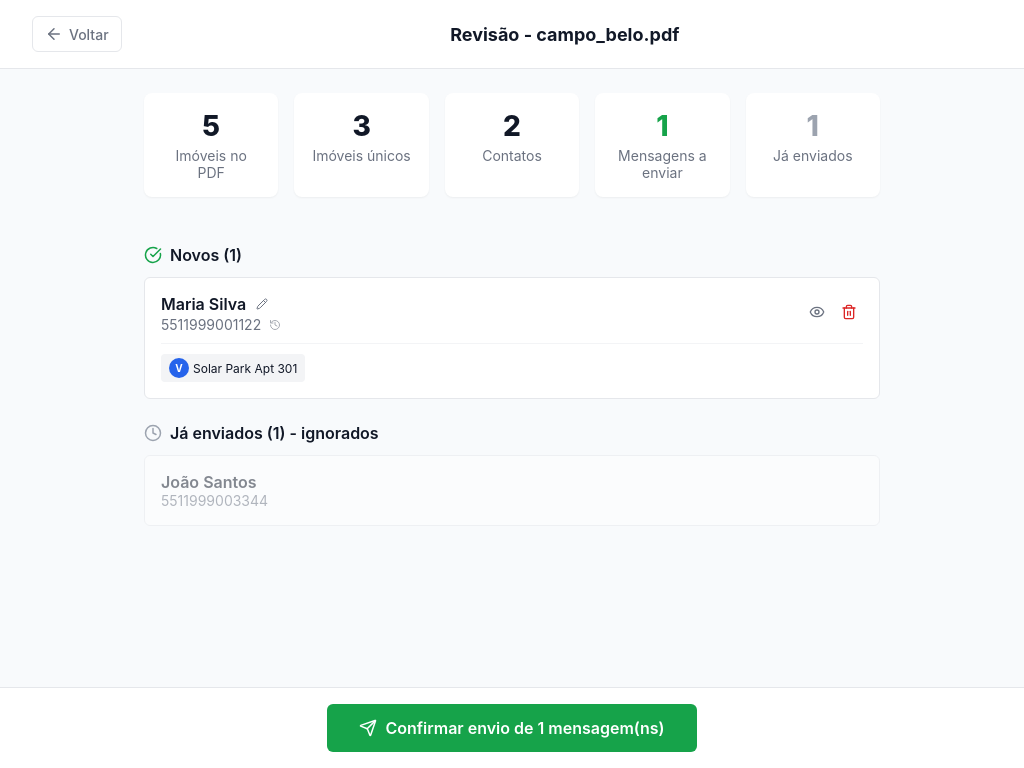
it: Revisao › deve abrir preview da mensagem ao clicar no icone de olho
Click the button titled "Ver mensagem" at [817, 314], box [803, 298, 831, 329]
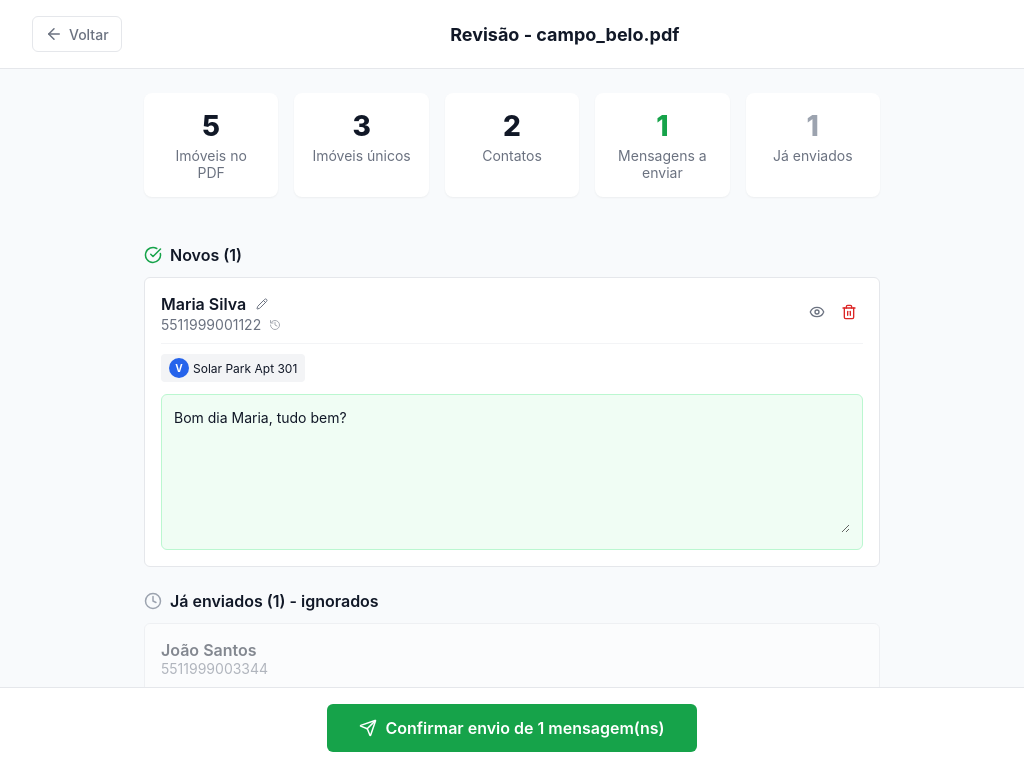
Expected: the text box "Bom dia Maria, tudo bem?" is shown, [174, 407, 850, 533]
